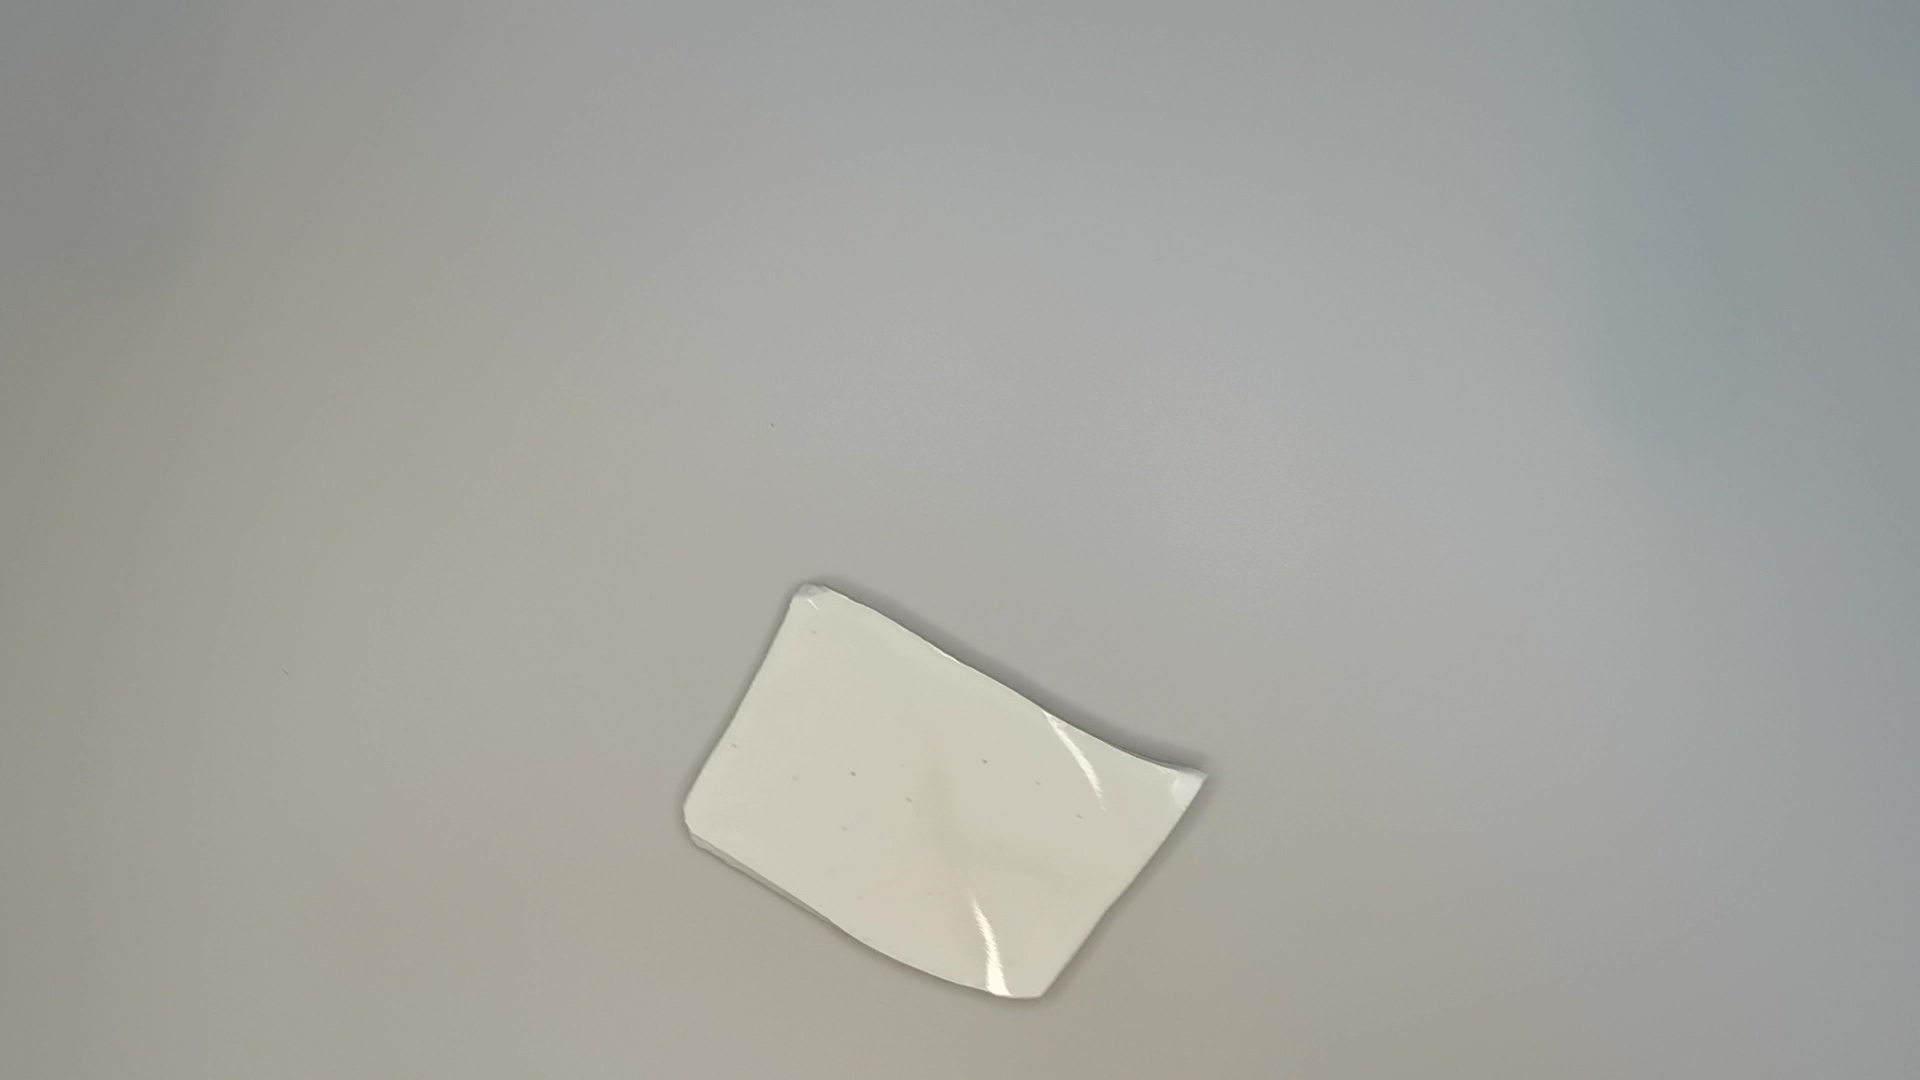ceramic: (665, 574, 1226, 1015)
